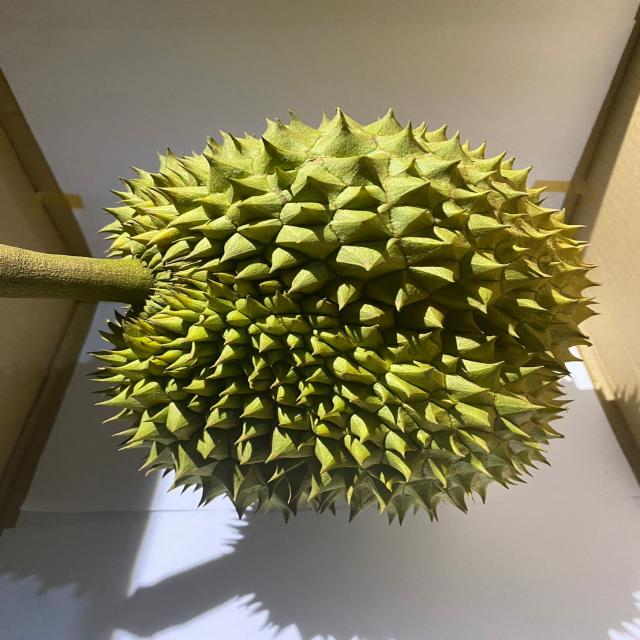immature: (84, 103, 599, 530)
